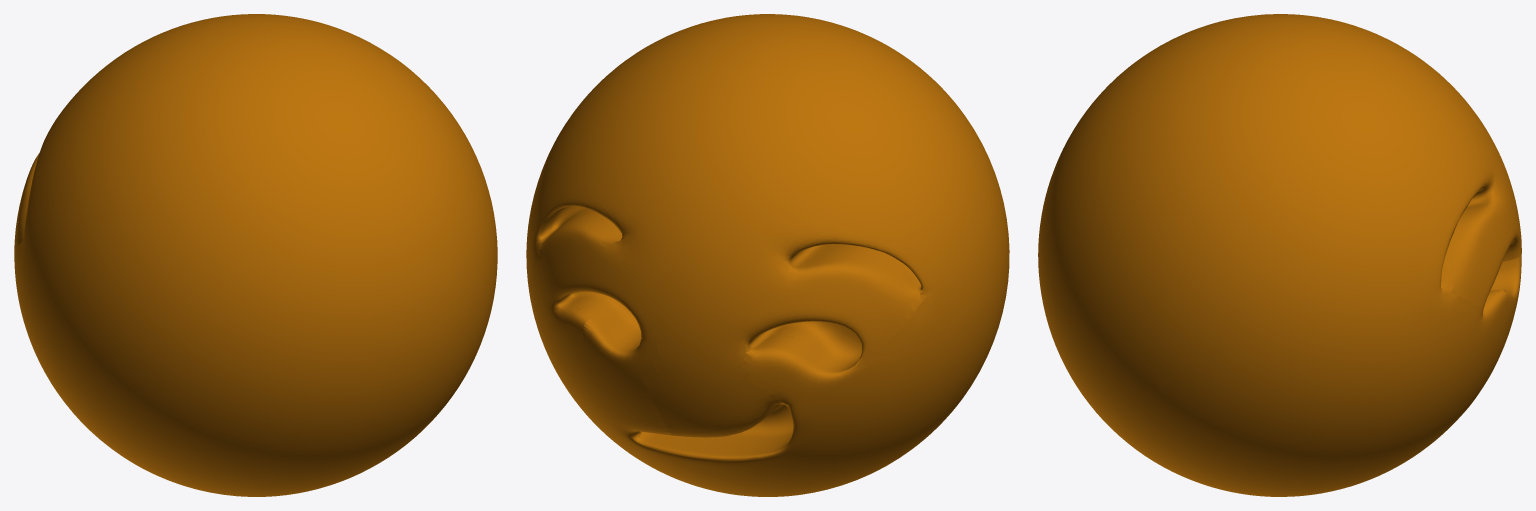
The model's file is smirk 3DS.fbx.
3 renders of one model, left to right at view 1: azimuth 30°, elevation 25°; view 2: azimuth 150°, elevation 25°; view 3: azimuth 270°, elevation 25°, orthographic.
Parts seen in each view (by area): view 1: Group52081; view 2: Group52081; view 3: Group52081.
Boxes of the visible parts, left/top/right/bottom form: Group52081: left=14, top=14, right=497, bottom=496; Group52081: left=526, top=14, right=1009, bottom=496; Group52081: left=1038, top=14, right=1521, bottom=496.
Size of the model in its own units: 52.71 by 52.68 by 52.78.
